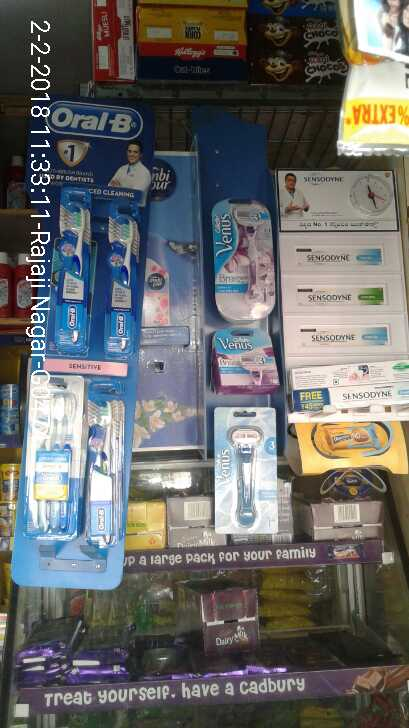beauty: (208, 392, 270, 540), (208, 195, 274, 326), (205, 326, 276, 391)
pharmacy: (24, 372, 81, 538), (51, 184, 91, 351), (86, 386, 121, 539), (102, 192, 134, 359)
